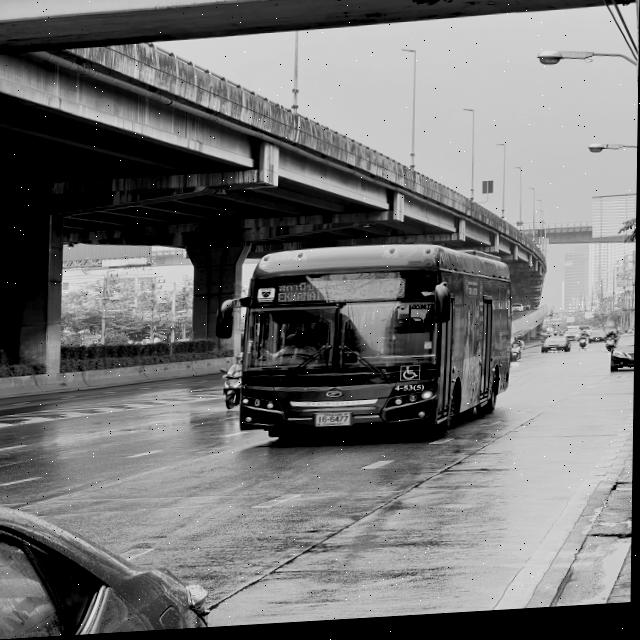Bus-Line-Number: (373, 278, 413, 308)
Destination-Sign-Normal: (274, 281, 370, 311)
TSB-Bus: (234, 242, 516, 449)
